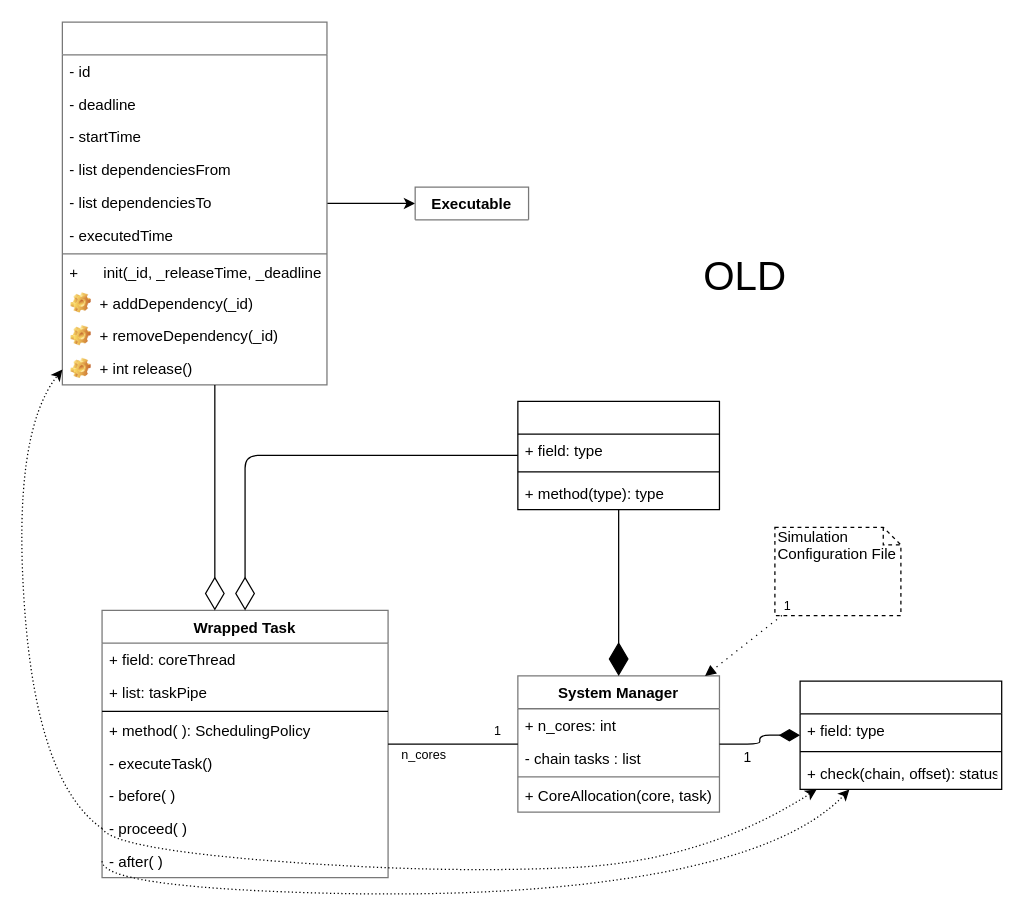
Image size: 1024x916. Some labels were removed from this diagram. The box of each missing label's shape, as (x1, y1, x2, y2) in pixels:
ChainsMonitor: (799, 680, 1002, 789)
CoreSelecter: (517, 400, 719, 510)
Task: (61, 21, 327, 385)
